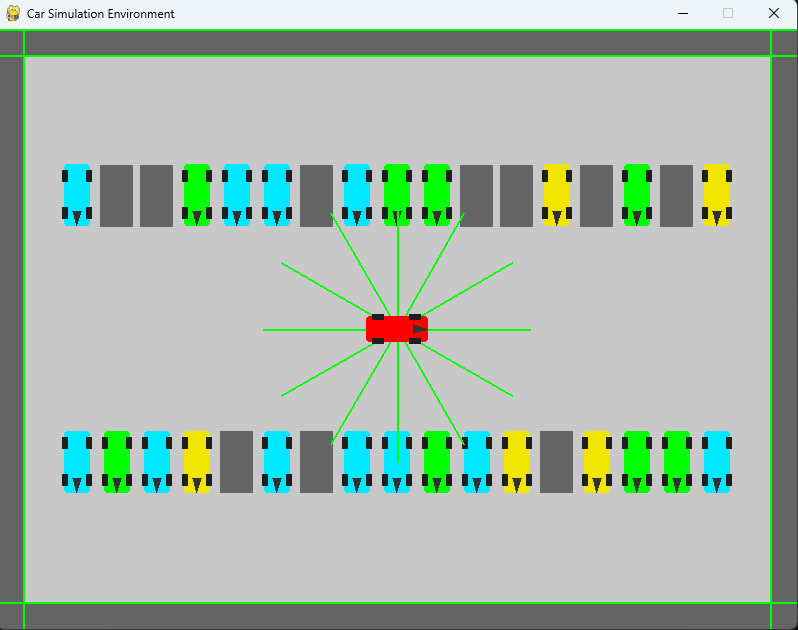ControlledCar: (358, 308, 431, 346)
ParkedCar: (417, 155, 457, 231), (535, 159, 578, 228), (698, 424, 737, 499), (55, 155, 94, 228), (376, 425, 414, 499), (336, 159, 376, 229), (656, 428, 695, 499), (617, 162, 658, 229), (457, 424, 494, 497), (218, 154, 254, 229), (176, 158, 213, 227), (579, 425, 613, 498), (257, 428, 293, 496), (618, 426, 652, 497), (337, 429, 373, 496), (417, 429, 453, 496), (178, 430, 215, 495), (380, 158, 414, 228), (498, 426, 532, 496), (700, 163, 735, 228), (60, 425, 92, 494), (260, 159, 291, 230), (99, 428, 132, 494), (139, 430, 173, 494)
ParkingSpot: (293, 157, 337, 235), (496, 158, 535, 235), (216, 424, 254, 501), (458, 158, 496, 234), (295, 425, 334, 497), (98, 157, 135, 232), (535, 428, 575, 497), (576, 158, 613, 232), (138, 159, 175, 232), (660, 159, 694, 233)
